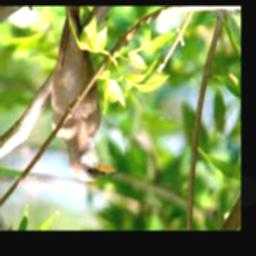Cuckoo: (51, 7, 120, 182)
